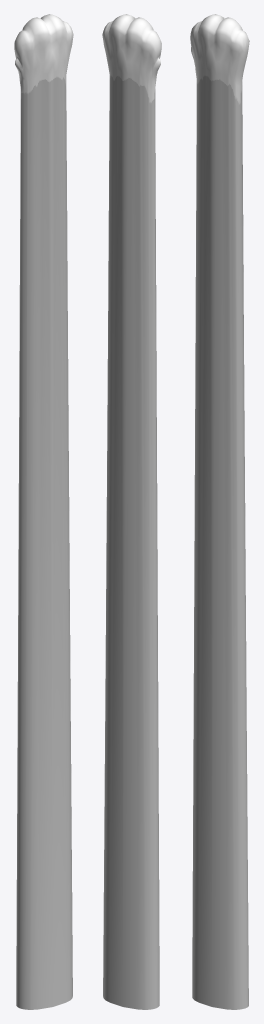
The model's file is longer-paw.FBX.
The picture shows the model from 3 angles, left to right: view 1: azimuth 30°, elevation 25°; view 2: azimuth 150°, elevation 25°; view 3: azimuth 330°, elevation 25°; orthographic projection.
Visible parts, largest first — view 1: Long Paw; view 2: Long Paw; view 3: Long Paw.
Part boxes in pixels (x1,y1,x2,y2): Long Paw: (14, 14, 73, 1009); Long Paw: (102, 14, 161, 1009); Long Paw: (190, 14, 249, 1009).
Size of the model in its own units: 85.63 by 1414 by 45.13.
